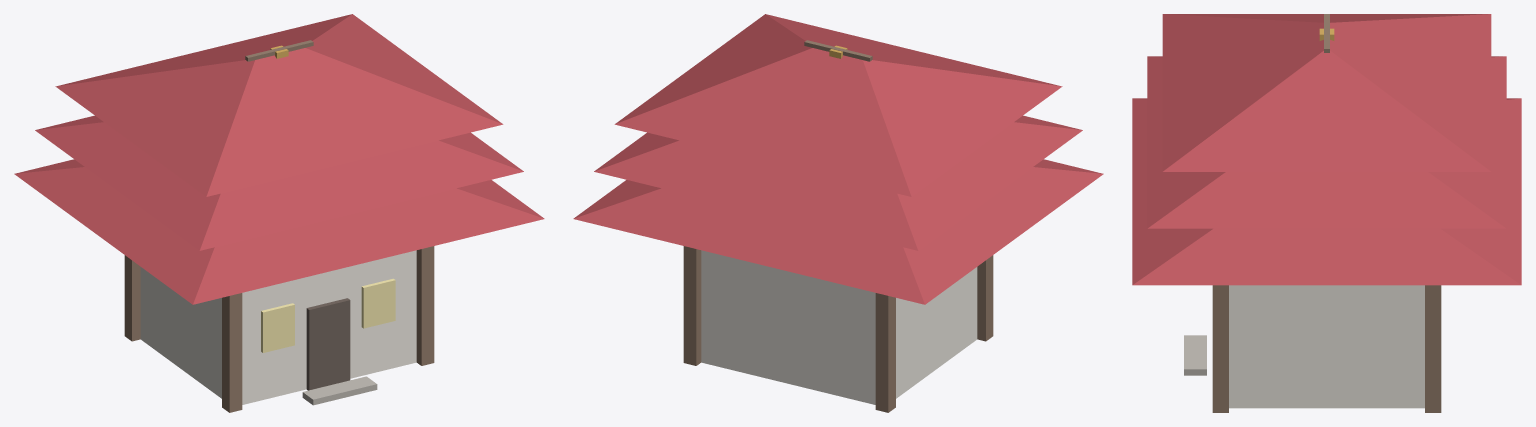
The model's file is temple_a.glb.
3 views of the same model, side by side, from view 1: azimuth 30°, elevation 25°; view 2: azimuth 150°, elevation 25°; view 3: azimuth 270°, elevation 25° (orthographic). The views are drawn at different scales.
Size of the model in its own units: 7.7 by 6.28 by 6.78.
